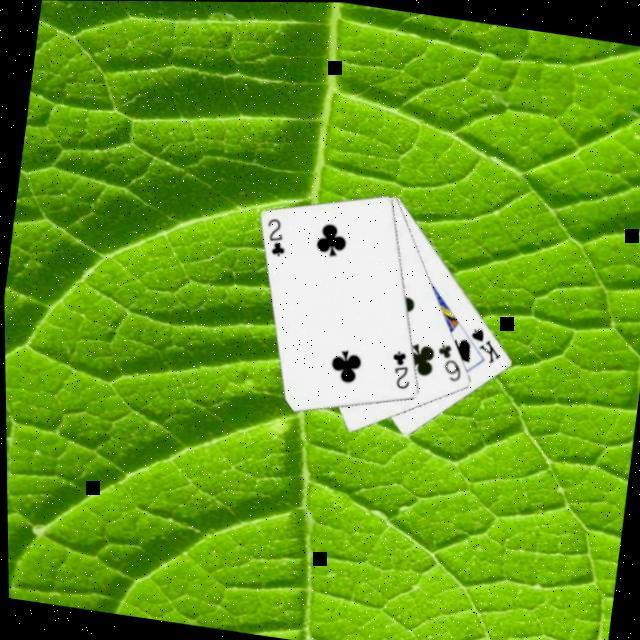2C: (385, 348, 418, 394), (261, 216, 293, 262)
6C: (431, 341, 470, 387)
KS: (465, 325, 509, 370)
